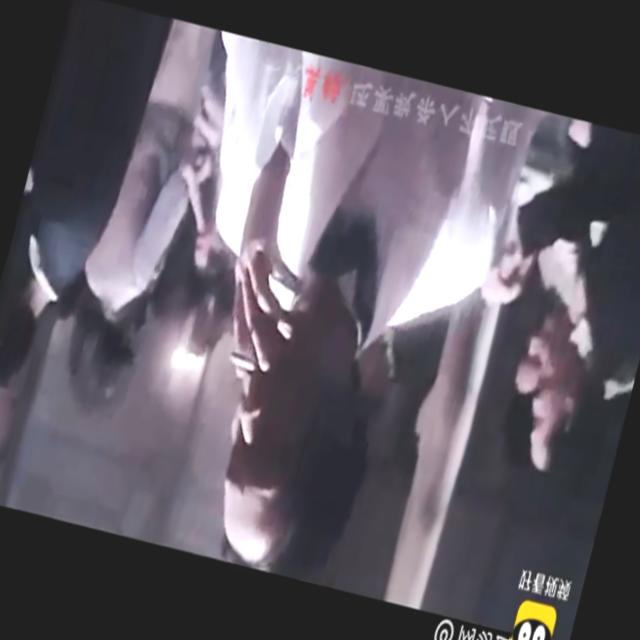smoke: (225, 349, 259, 372)
